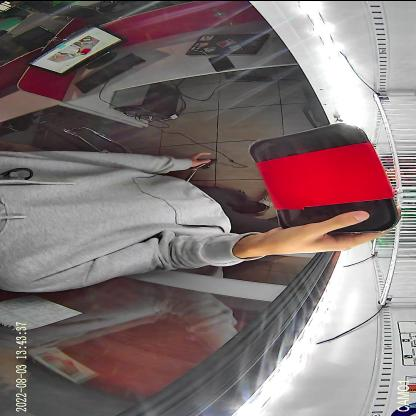red: (247, 121, 400, 233)
